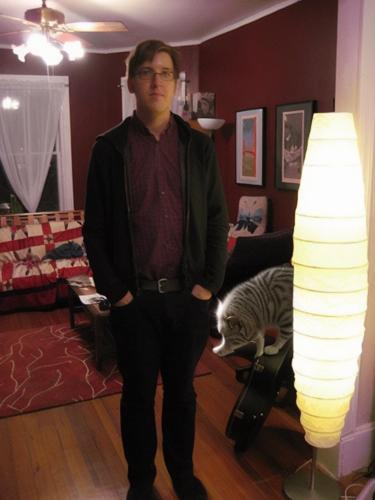cat: (210, 265, 293, 358)
person: (83, 39, 231, 500)
person/foot: (172, 475, 208, 500), (124, 485, 164, 500)
person/hand: (115, 292, 136, 308), (195, 286, 216, 301)
person/head: (127, 39, 182, 114)
